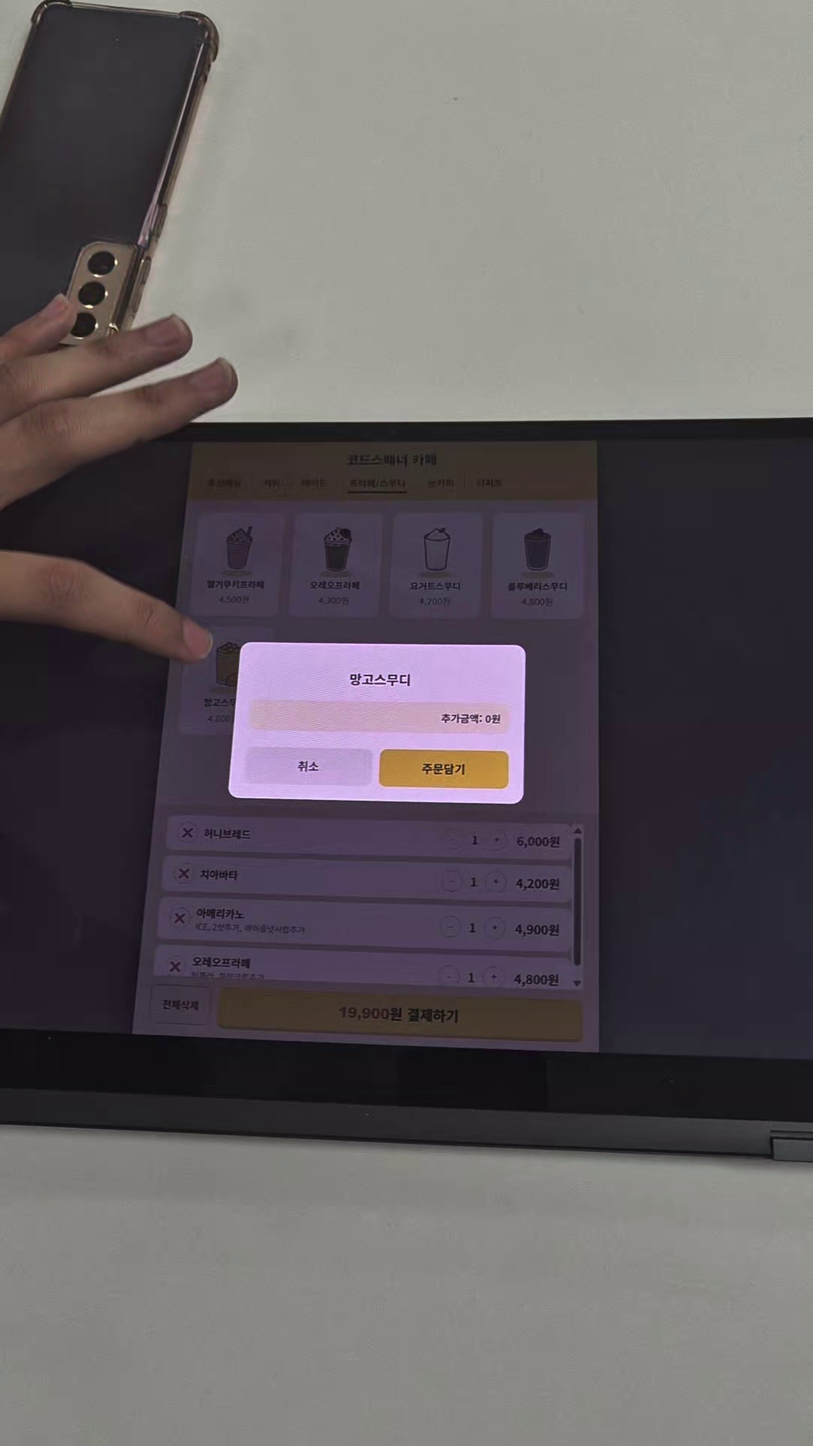action_button: (217, 988, 584, 1040), (379, 748, 509, 788), (248, 747, 369, 785), (150, 986, 211, 1024)
category_tab: (346, 477, 409, 491), (202, 479, 242, 492), (299, 477, 327, 489), (426, 477, 456, 488), (474, 478, 503, 489), (261, 478, 282, 492)
menu_back: (490, 508, 588, 618), (388, 508, 486, 618), (288, 511, 384, 618), (190, 512, 284, 616), (180, 635, 268, 733)
menu_name: (190, 955, 252, 970), (201, 827, 253, 840), (194, 907, 246, 920), (197, 868, 242, 881)
menu_price: (515, 875, 560, 893), (515, 921, 560, 939), (514, 970, 559, 988), (515, 835, 562, 849)
